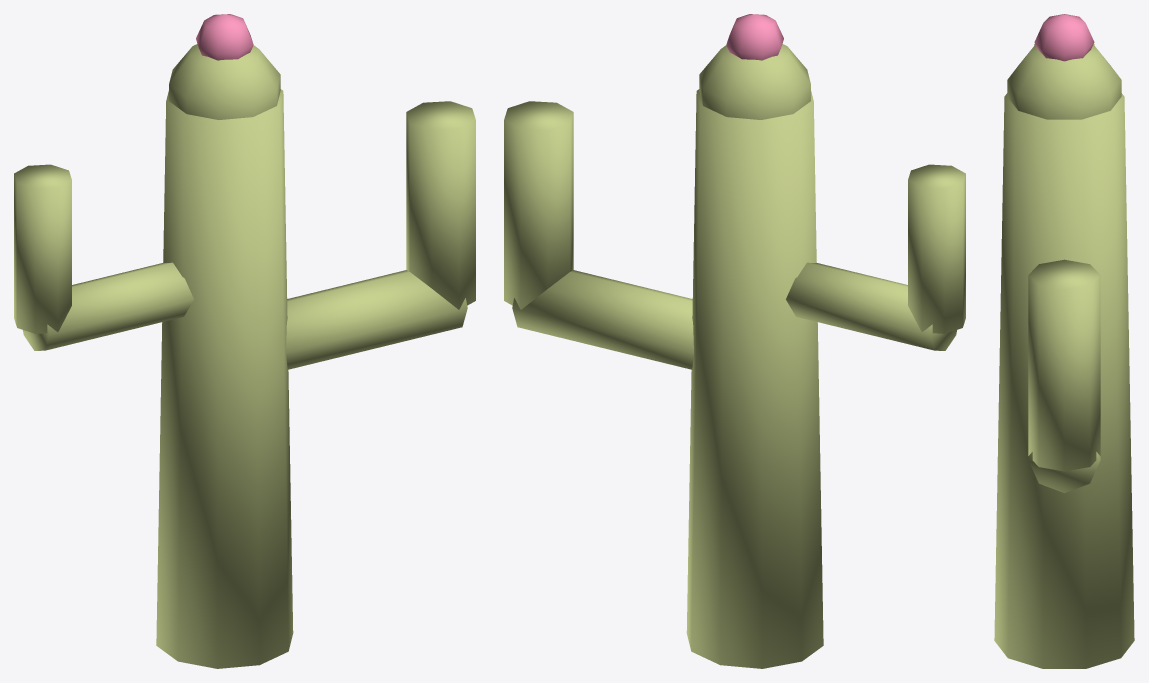
Rendered from cactus.glb.
The picture shows the model from 3 angles, left to right: view 1: azimuth 30°, elevation 25°; view 2: azimuth 150°, elevation 25°; view 3: azimuth 270°, elevation 25°; orthographic projection.
Parts seen in each view (by area): view 1: Cactus; view 2: Cactus; view 3: Cactus.
Part boxes in pixels (left/top/right/bottom): Cactus: left=14, top=14, right=475, bottom=668; Cactus: left=504, top=14, right=965, bottom=668; Cactus: left=994, top=14, right=1134, bottom=668.
Size of the model in its own units: 2.63 by 3.45 by 0.7.
